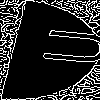U: (25, 25, 100, 68)
